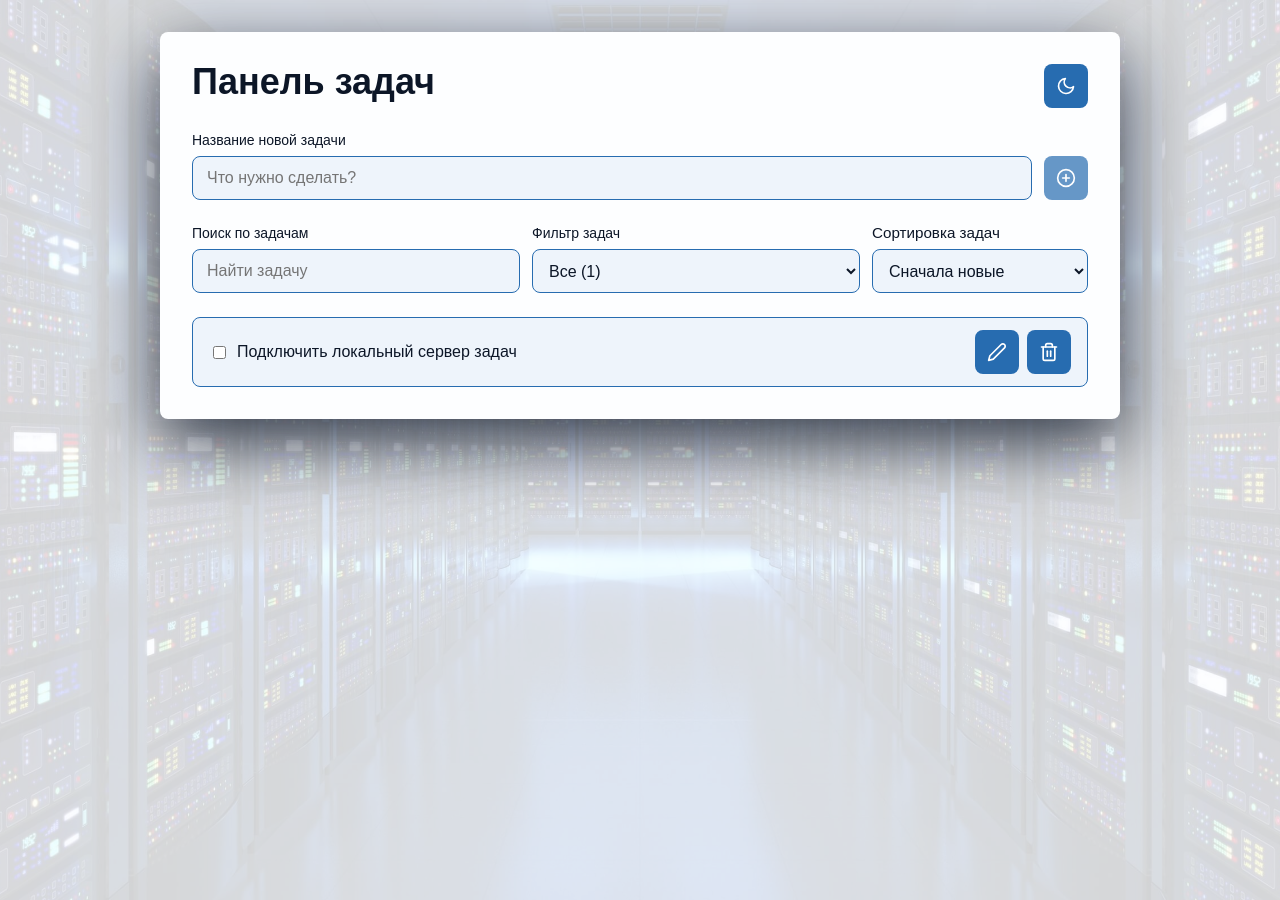
it: App › показывает ошибку мутации, если редактирование задачи не удалось
Expected: the text "Подключить локальный сервер задач" is shown, [237,343,517,361]
Click the button named "Редактировать" at (997, 352), box [975,330,1019,374]
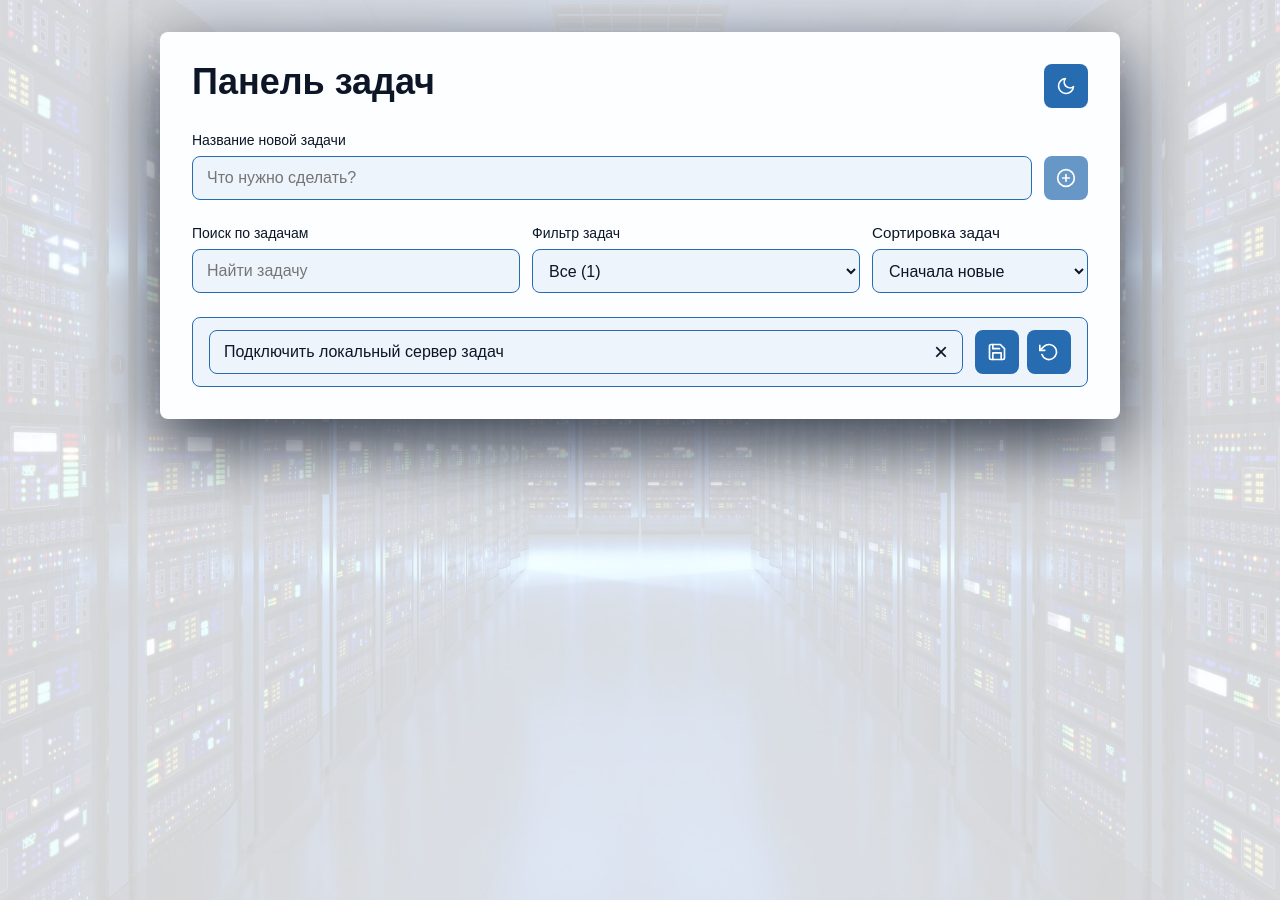
Replace the text in the field named "Название задачи" with "Обновленная задача" at (586, 352), box [209,330,963,374]
Then press Enter
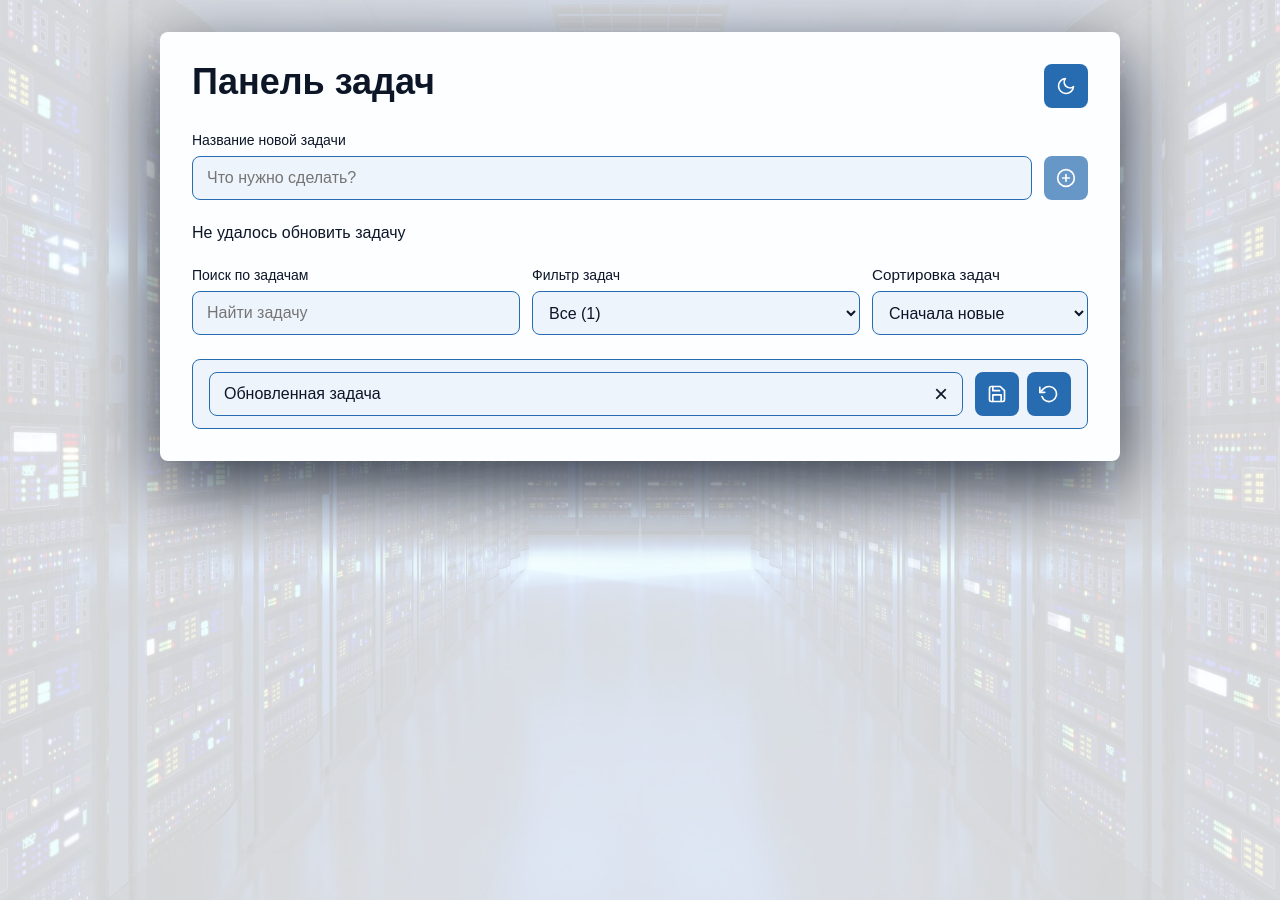
Now the message reads "Не удалось обновить задачу", box [192,224,406,241]
